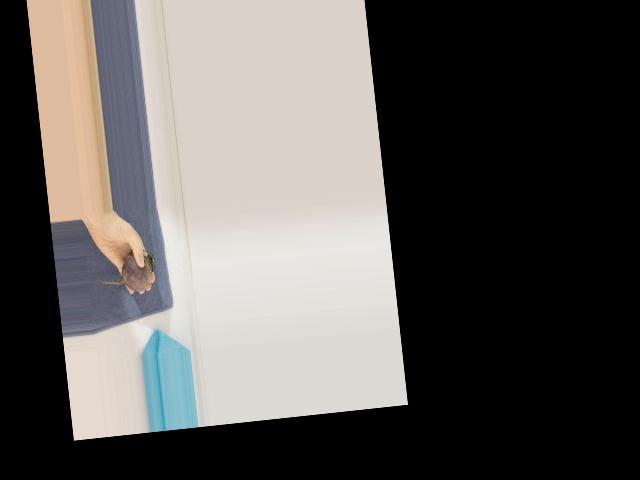beet: (96, 248, 157, 295)
